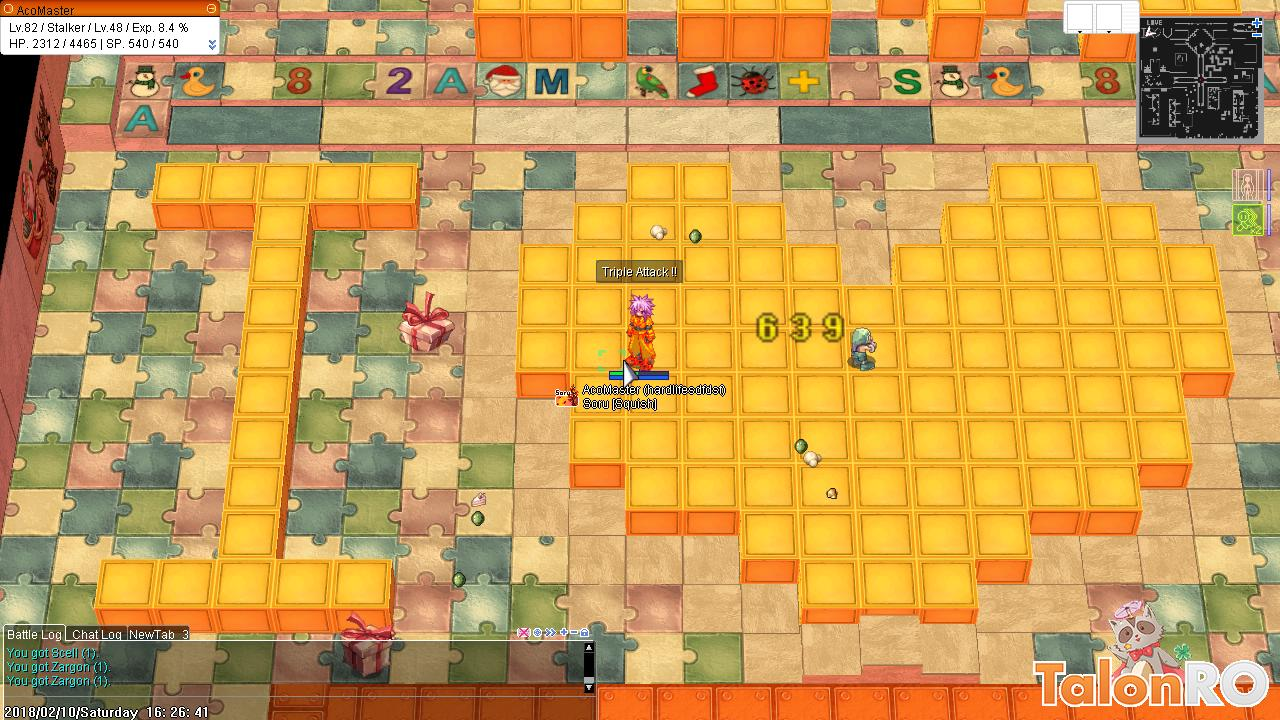loot: (462, 485, 494, 515), (644, 215, 671, 248), (684, 218, 708, 252), (788, 430, 812, 457), (802, 449, 827, 473), (448, 565, 469, 593), (823, 483, 843, 506), (469, 507, 486, 533)
myst_case: (332, 608, 407, 685), (393, 285, 461, 362)
